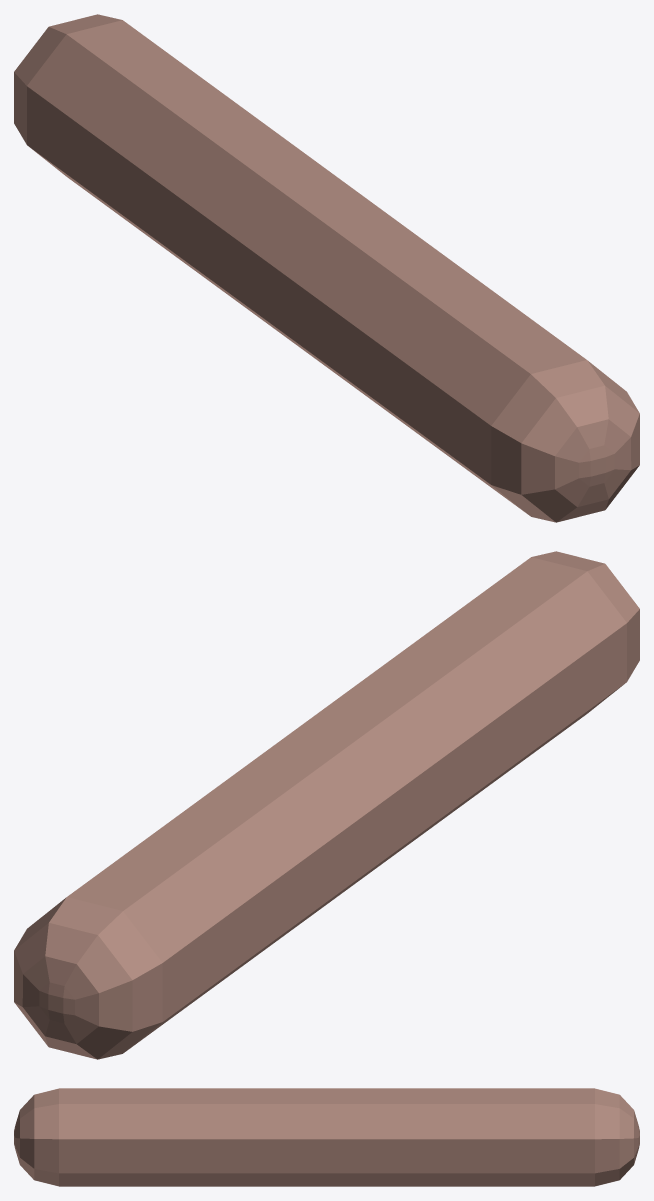
Rendered from Sausage_Raw.glb.
3 renders of one model, top to bottom at view 1: azimuth 30°, elevation 25°; view 2: azimuth 150°, elevation 25°; view 3: azimuth 270°, elevation 25°, orthographic. The views are drawn at different scales.
Visible parts, largest first — view 1: Sausage_Raw; view 2: Sausage_Raw; view 3: Sausage_Raw.
Part boxes in pixels (x1,y1,x2,y2): Sausage_Raw: (14, 14, 639, 522); Sausage_Raw: (14, 551, 639, 1059); Sausage_Raw: (14, 1088, 639, 1186).
Size of the model in its own units: 0.0407 by 0.041 by 0.2815.
